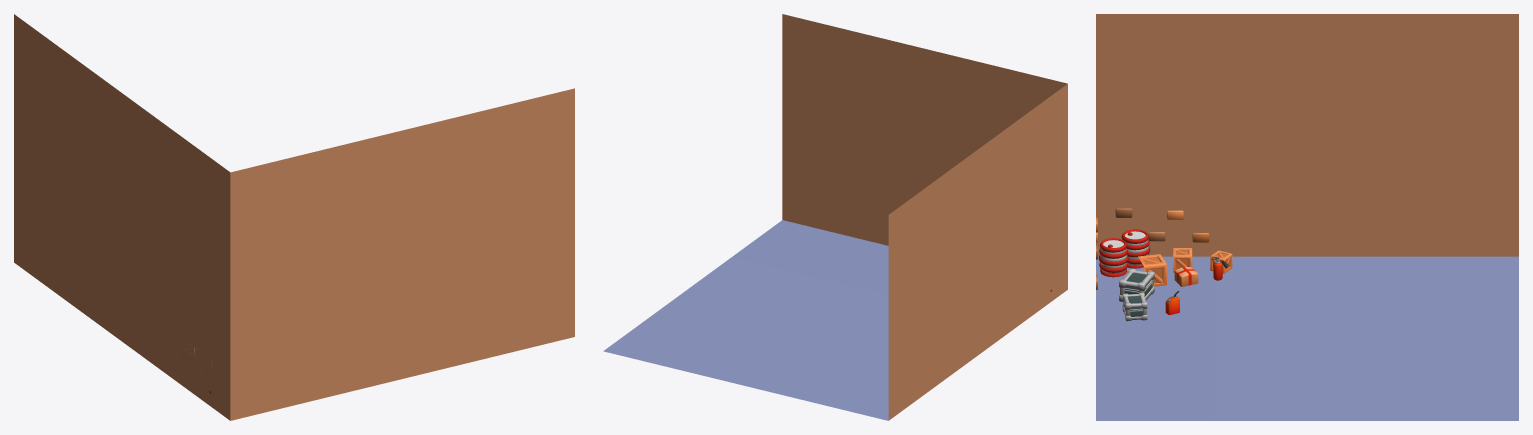
Rendered from garage.fbx.
3 renders of one model, left to right at view 1: azimuth 30°, elevation 25°; view 2: azimuth 150°, elevation 25°; view 3: azimuth 270°, elevation 25°, orthographic. The views are drawn at different scales.
Parts seen in each view (by area): view 1: garage; view 2: garage; view 3: garage.
Part boxes in pixels (x1,y1,x2,y2): garage: (14, 14, 574, 420); garage: (603, 14, 1067, 420); garage: (1096, 14, 1518, 420).
Size of the model in its own units: 2454 by 1695 by 2668.
